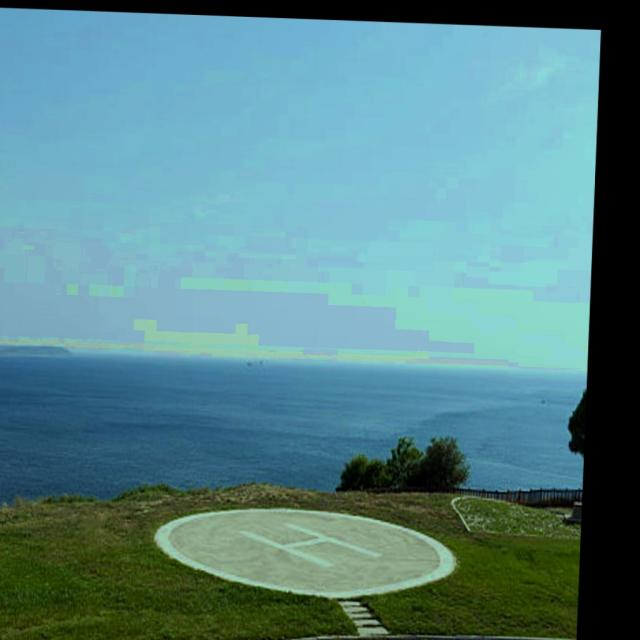helipad: (149, 497, 462, 602)
